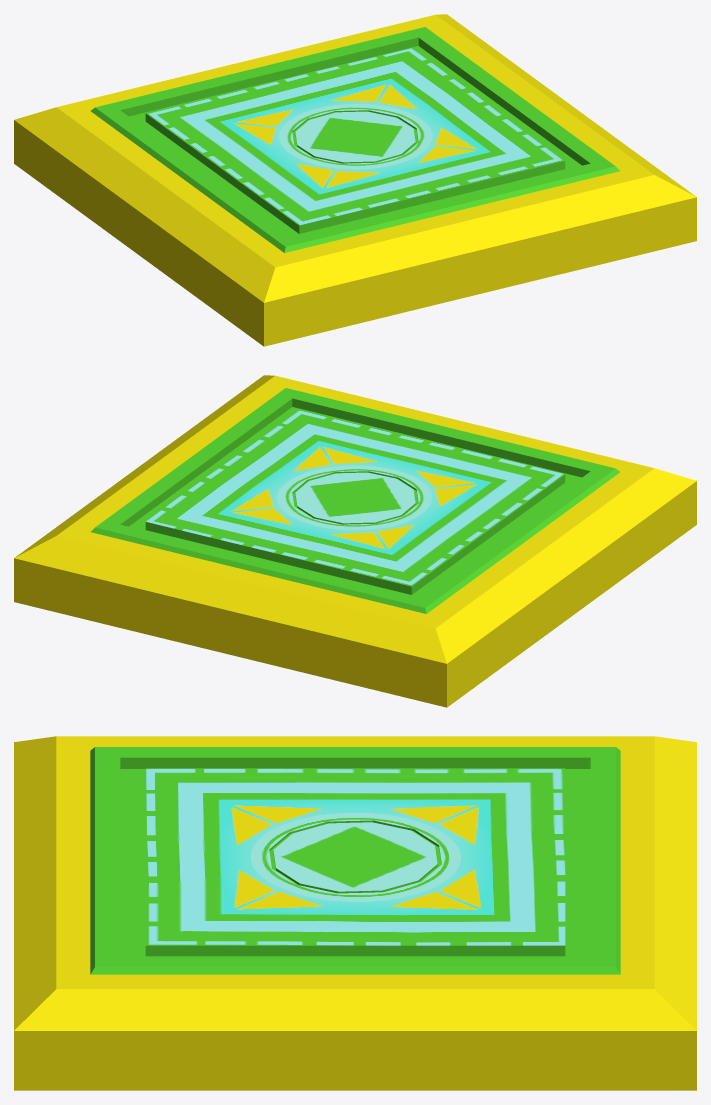
3 renders of one model, top to bottom at view 1: azimuth 30°, elevation 25°; view 2: azimuth 150°, elevation 25°; view 3: azimuth 270°, elevation 25°, orthographic. The views are drawn at different scales.
Parts seen in each view (by area): view 1: Cube; view 2: Cube; view 3: Cube.
Part boxes in pixels (x1,y1,x2,y2): Cube: [14, 14, 696, 346]; Cube: [14, 375, 696, 707]; Cube: [14, 736, 696, 1090].
Size of the model in its own units: 800 by 116 by 800.
1 material, 1 textured.
